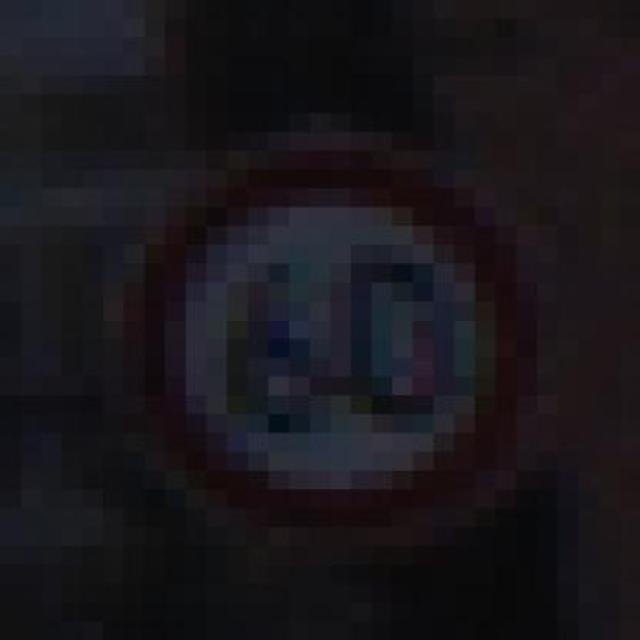forb_speed_over_60: (126, 151, 537, 529)
